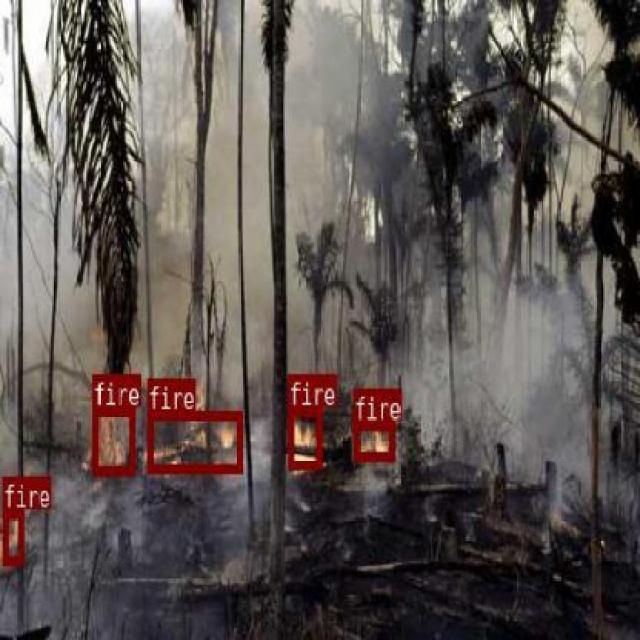fire: (147, 410, 241, 472), (92, 406, 134, 474), (287, 405, 321, 467), (352, 420, 394, 460), (1, 508, 24, 562)
